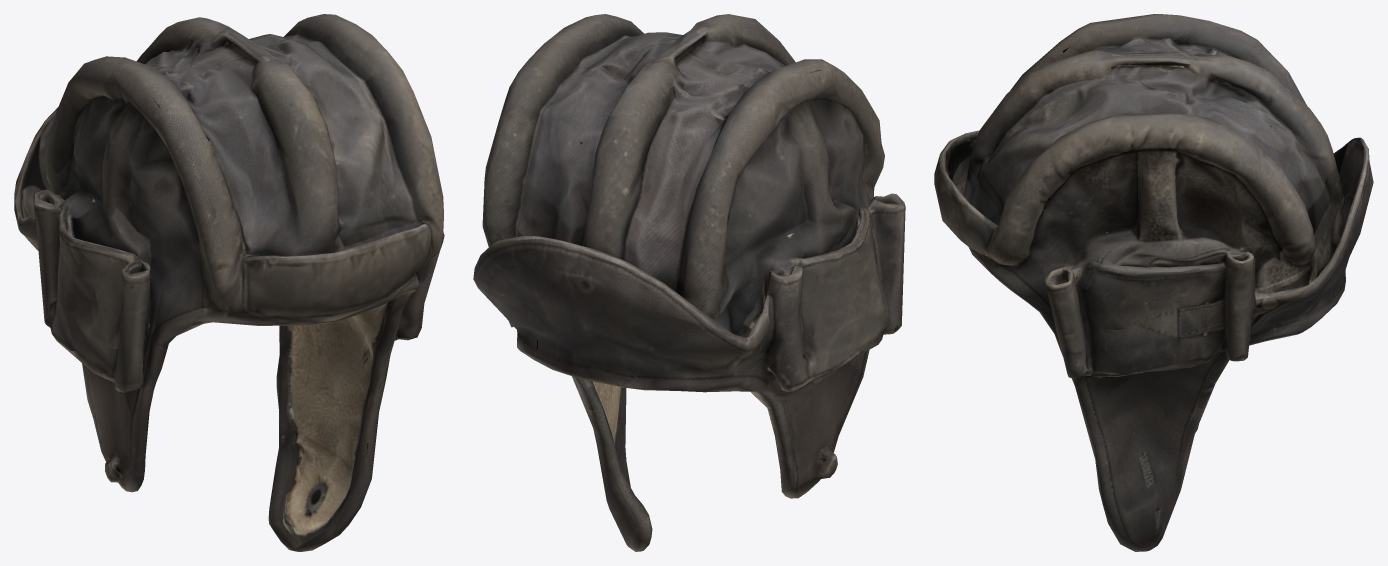
File: ip_tsh.glb
3 views of the same model, side by side, from view 1: azimuth 30°, elevation 25°; view 2: azimuth 150°, elevation 25°; view 3: azimuth 270°, elevation 25° (orthographic). The views are drawn at different scales.
Parts seen in each view (by area): view 1: O_ip_tsh__Body; view 2: O_ip_tsh__Body; view 3: O_ip_tsh__Body.
Boxes of the visible parts, x1,y1,x2,y2 form: O_ip_tsh__Body: [14, 14, 444, 551]; O_ip_tsh__Body: [473, 14, 905, 551]; O_ip_tsh__Body: [934, 14, 1373, 551].
Bounding box in the file's own units: 0.6064 × 0.9228 × 0.7754.
1 material, 1 textured.
